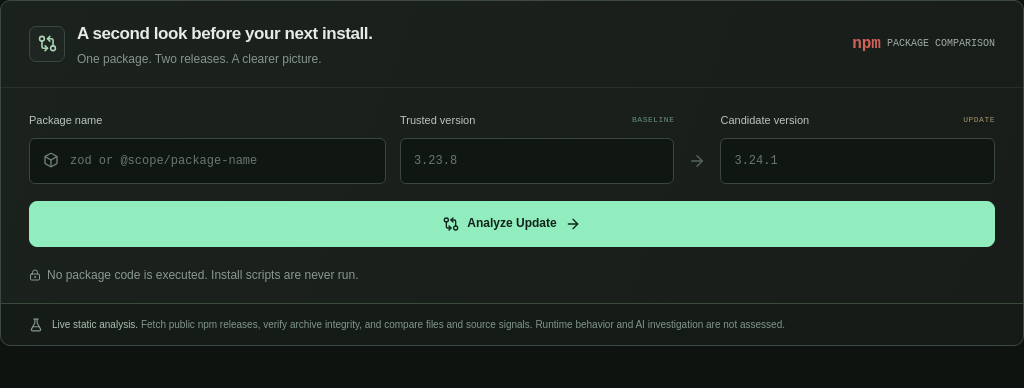
Test: live static comparison form › does not navigate on an invalid response ID
Type "@synthetic/static-ui-fixture" into the field labelled "Package name". click: (207, 161)
box: [29, 138, 386, 184]
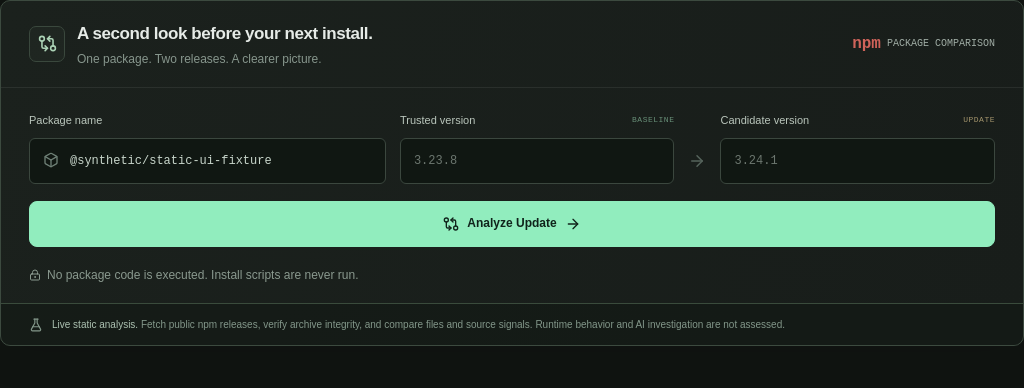
Type "1.0.0" into the field labelled "Trusted version BASELINE". click: (537, 161)
box: [400, 138, 674, 184]
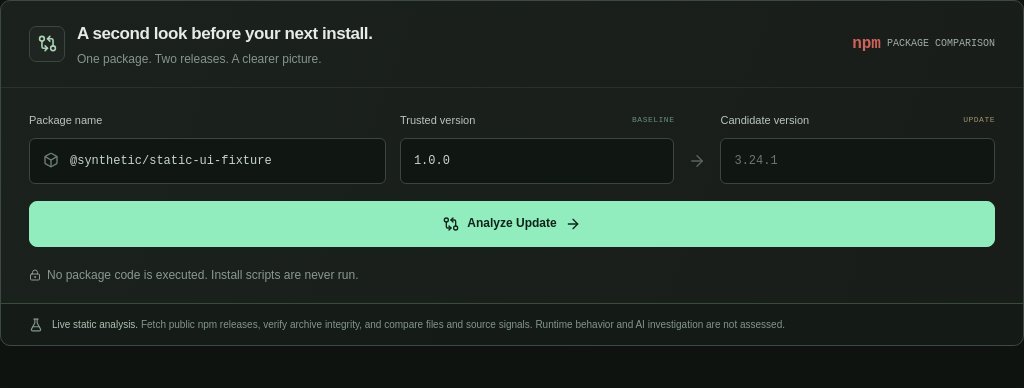
Type "1.1.0" into the field labelled "Candidate version UPDATE". click: (858, 161)
box: [720, 138, 995, 184]
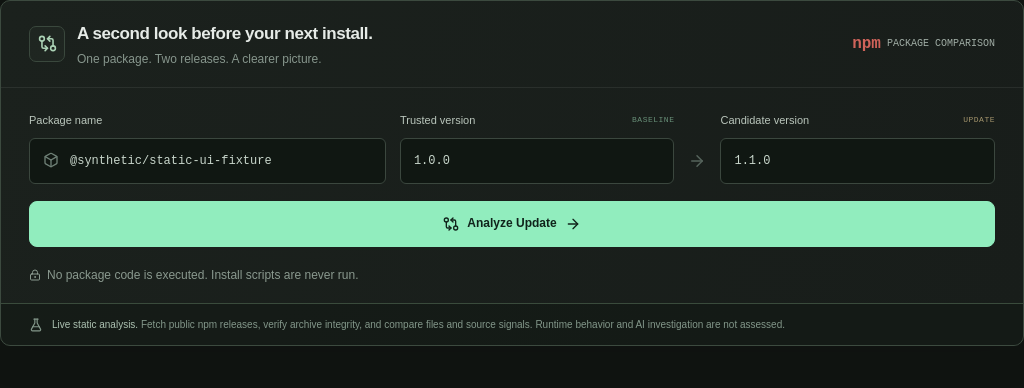
Click the button "Analyze Update". click: (512, 224)
box: [29, 201, 995, 247]
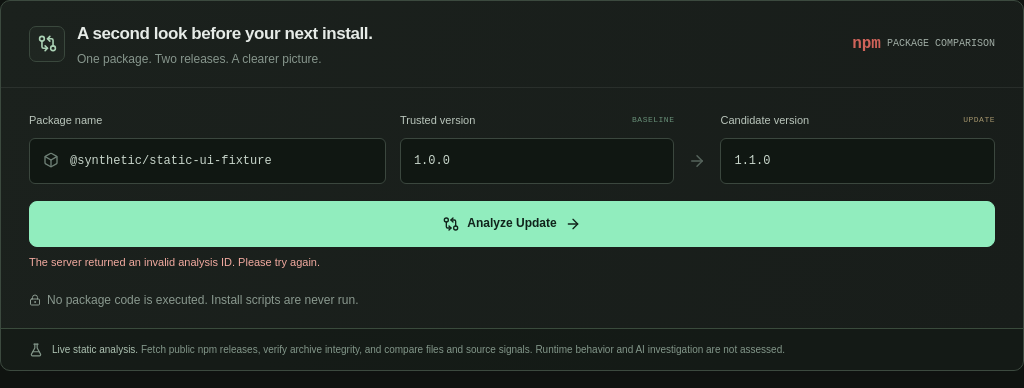
Check: the message shows "invalid analysis ID", box [29, 256, 320, 268]
